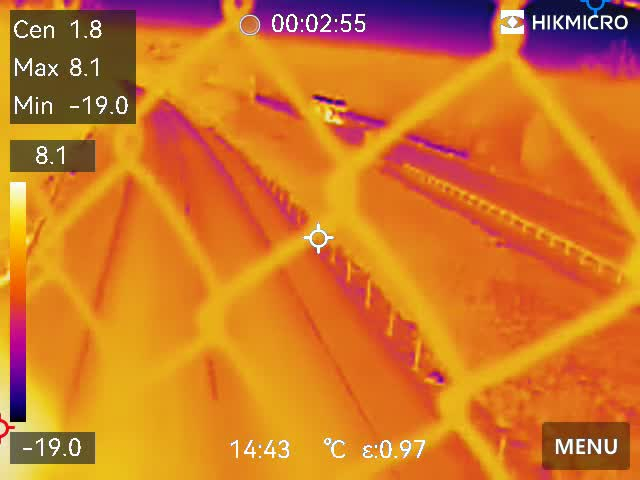vehicle: (302, 91, 346, 125)
